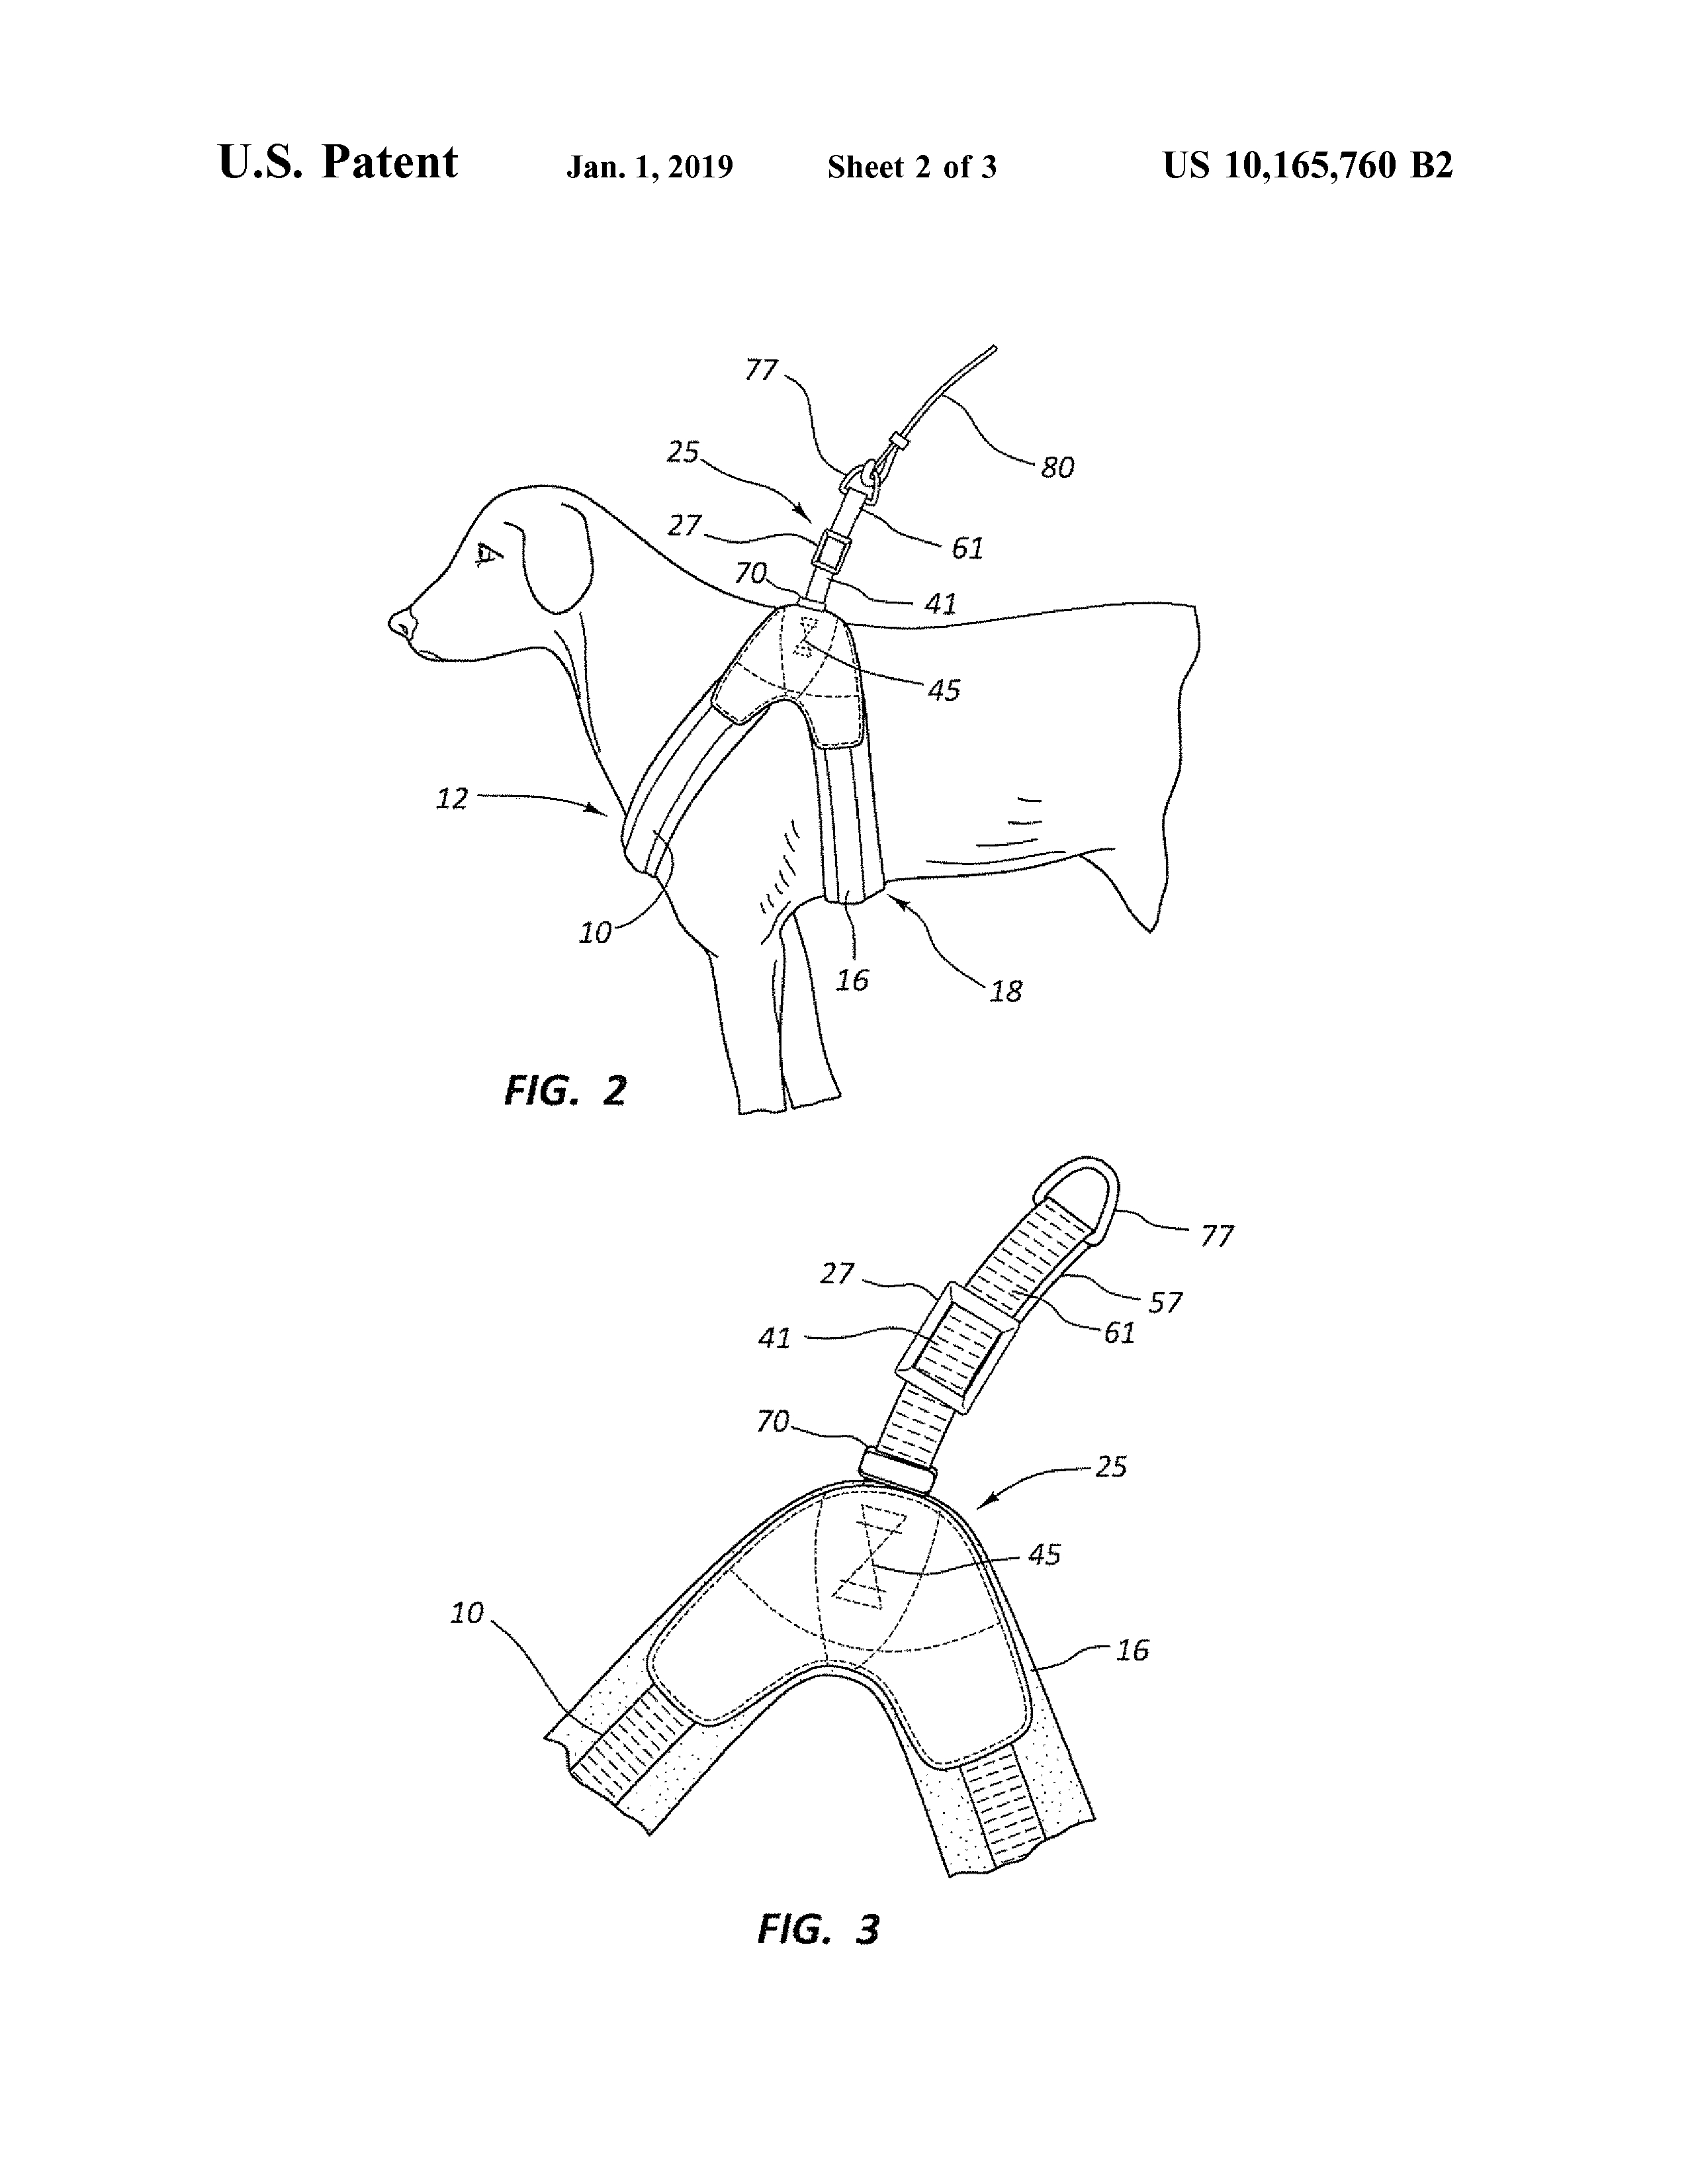patent image: (363, 312, 1309, 1136), (390, 1150, 1240, 1972)
